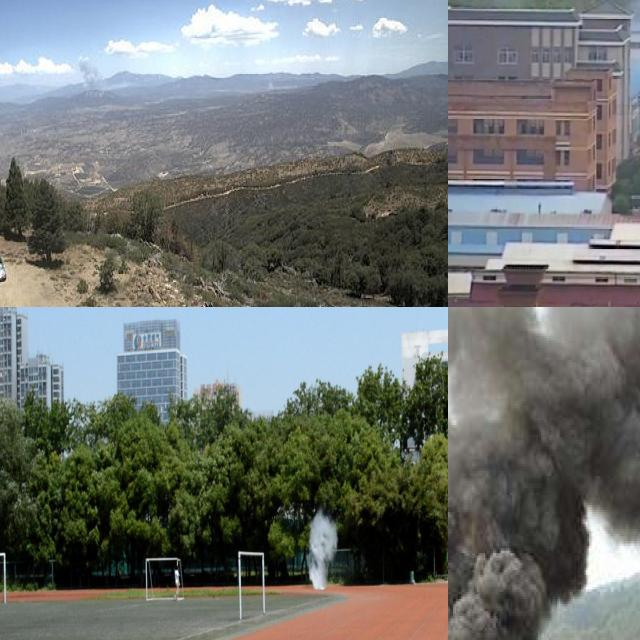smoke: (448, 307, 640, 640), (305, 508, 339, 591), (73, 53, 110, 98)
